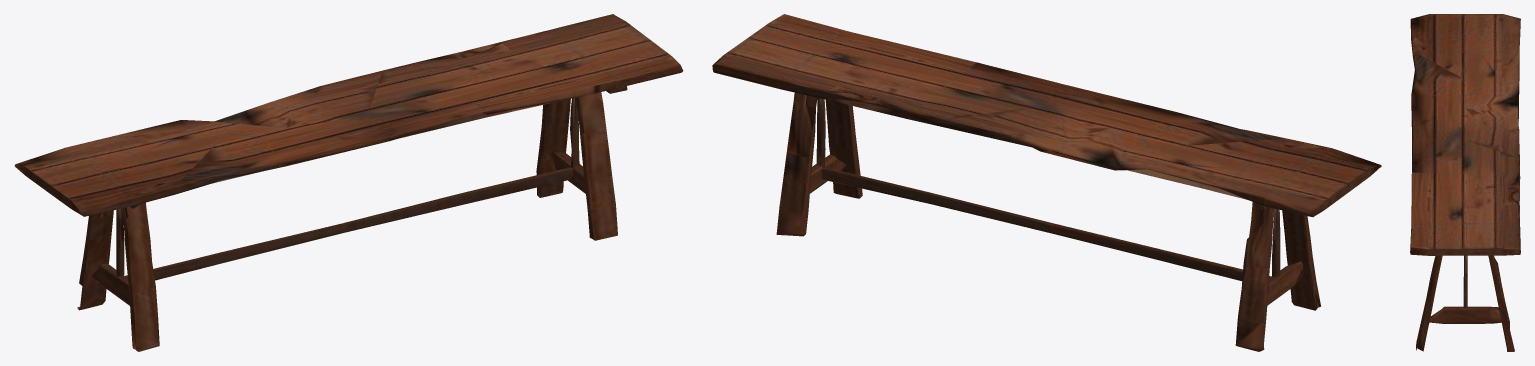
The model's file is bench.lod1.glb.
3 renders of one model, left to right at view 1: azimuth 30°, elevation 25°; view 2: azimuth 150°, elevation 25°; view 3: azimuth 270°, elevation 25°, orthographic. The views are drawn at different scales.
Bounding box in the file's own units: 1.8 × 0.458 × 0.36.
1 material, 1 textured.
